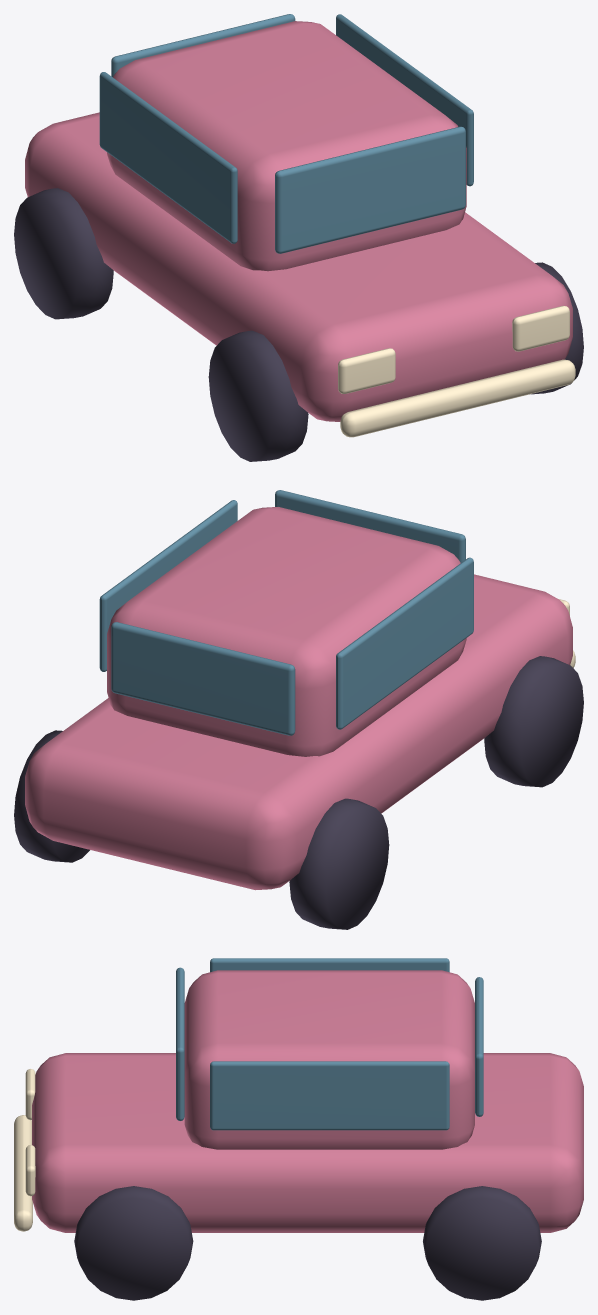
File: Parked_hatchback.fbx
3 renders of one model, top to bottom at view 1: azimuth 30°, elevation 25°; view 2: azimuth 150°, elevation 25°; view 3: azimuth 270°, elevation 25°, orthographic. The views are drawn at different scales.
Visible parts, largest first — view 1: Town_Parked_hatchback Car body.001, Town_Parked_hatchback Cabin.001, Town_Parked_hatchback Windshield.001, Town_Parked_hatchback Side window.002, Town_Parked_hatchback Tire.004, Town_Parked_hatchback Tire.005, Town_Parked_hatchback Bumper.001, Town_Parked_hatchback Side window.003, Town_Parked_hatchback Headlamp.003, Town_Parked_hatchback Headlamp.002, Town_Parked_hatchback Rear window.001, Town_Parked_hatchback Tire.006; view 2: Town_Parked_hatchback Car body.001, Town_Parked_hatchback Cabin.001, Town_Parked_hatchback Rear window.001, Town_Parked_hatchback Side window.002, Town_Parked_hatchback Tire.005, Town_Parked_hatchback Tire.004, Town_Parked_hatchback Side window.003, Town_Parked_hatchback Windshield.001, Town_Parked_hatchback Tire.007; view 3: Town_Parked_hatchback Car body.001, Town_Parked_hatchback Cabin.001, Town_Parked_hatchback Side window.003, Town_Parked_hatchback Tire.006, Town_Parked_hatchback Tire.007, Town_Parked_hatchback Side window.002, Town_Parked_hatchback Bumper.001, Town_Parked_hatchback Windshield.001, Town_Parked_hatchback Rear window.001, Town_Parked_hatchback Headlamp.003, Town_Parked_hatchback Headlamp.002.
Boxes of the visible parts, x1,y1,x2,y2 form: Town_Parked_hatchback Car body.001: [25, 112, 572, 421]; Town_Parked_hatchback Cabin.001: [107, 21, 466, 271]; Town_Parked_hatchback Windshield.001: [275, 126, 465, 253]; Town_Parked_hatchback Side window.002: [99, 72, 237, 243]; Town_Parked_hatchback Tire.004: [208, 330, 308, 461]; Town_Parked_hatchback Tire.005: [14, 188, 113, 319]; Town_Parked_hatchback Bumper.001: [340, 359, 575, 437]; Town_Parked_hatchback Side window.003: [336, 14, 473, 186]; Town_Parked_hatchback Headlamp.003: [512, 305, 569, 351]; Town_Parked_hatchback Headlamp.002: [338, 348, 395, 393]; Town_Parked_hatchback Rear window.001: [111, 14, 295, 77]; Town_Parked_hatchback Tire.006: [531, 262, 583, 394]; Town_Parked_hatchback Car body.001: [25, 574, 572, 890]; Town_Parked_hatchback Cabin.001: [107, 507, 466, 756]; Town_Parked_hatchback Rear window.001: [111, 622, 295, 735]; Town_Parked_hatchback Side window.002: [336, 557, 473, 729]; Town_Parked_hatchback Tire.005: [289, 798, 389, 929]; Town_Parked_hatchback Tire.004: [484, 656, 583, 787]; Town_Parked_hatchback Side window.003: [99, 500, 237, 671]; Town_Parked_hatchback Windshield.001: [275, 490, 465, 562]; Town_Parked_hatchback Tire.007: [14, 730, 89, 862]; Town_Parked_hatchback Car body.001: [32, 1053, 583, 1232]; Town_Parked_hatchback Cabin.001: [184, 970, 474, 1149]; Town_Parked_hatchback Side window.003: [210, 1061, 449, 1130]; Town_Parked_hatchback Tire.006: [74, 1186, 193, 1300]; Town_Parked_hatchback Tire.007: [423, 1186, 541, 1300]; Town_Parked_hatchback Side window.002: [210, 958, 449, 972]; Town_Parked_hatchback Bumper.001: [14, 1115, 32, 1231]; Town_Parked_hatchback Windshield.001: [176, 967, 184, 1120]; Town_Parked_hatchback Rear window.001: [475, 977, 483, 1116]; Town_Parked_hatchback Headlamp.003: [25, 1145, 35, 1196]; Town_Parked_hatchback Headlamp.002: [25, 1069, 35, 1120].
Size of the model in its own units: 222 by 173 by 392.
